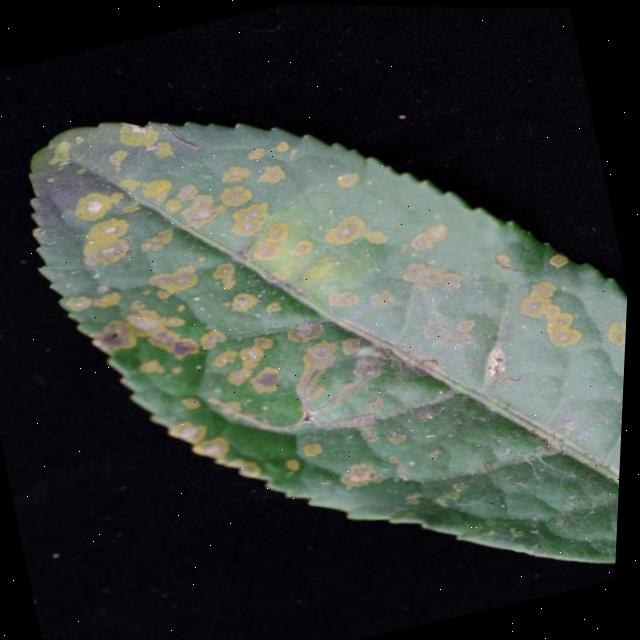Tea algae leaf spot: (20, 42, 557, 557)
